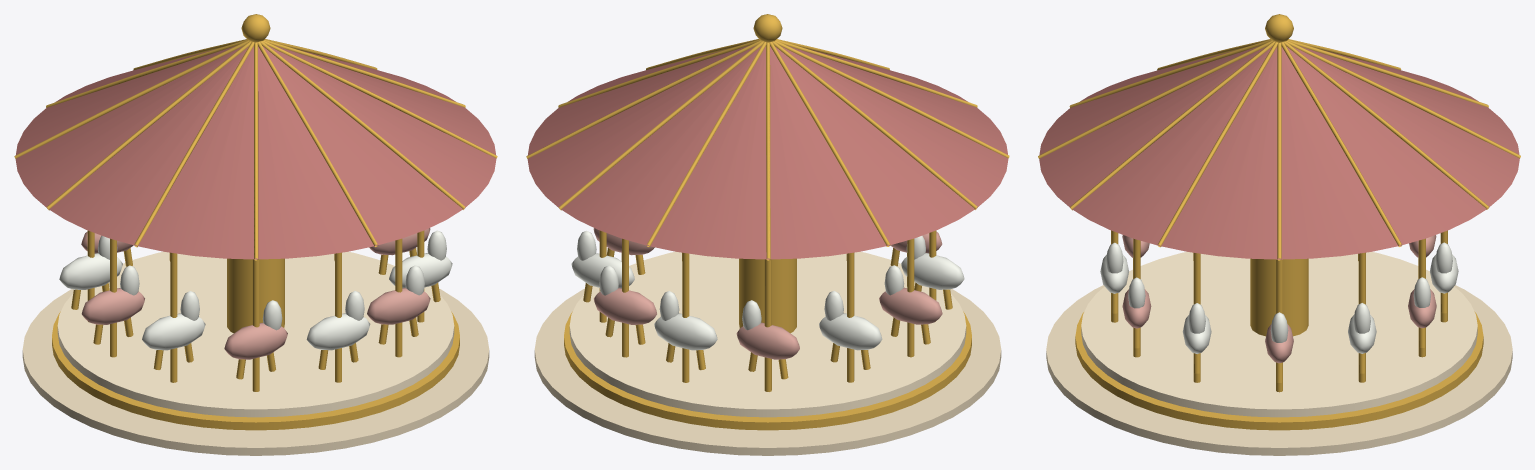
The model's file is carousel.glb.
The picture shows the model from 3 angles, left to right: view 1: azimuth 30°, elevation 25°; view 2: azimuth 150°, elevation 25°; view 3: azimuth 270°, elevation 25°; orthographic projection.
Size of the model in its own units: 3.31 by 2.59 by 3.31.
